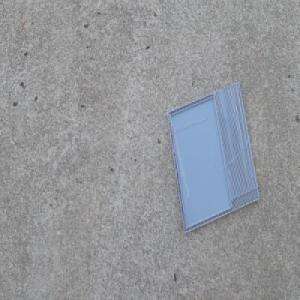PlasticPart: (166, 80, 260, 235)
